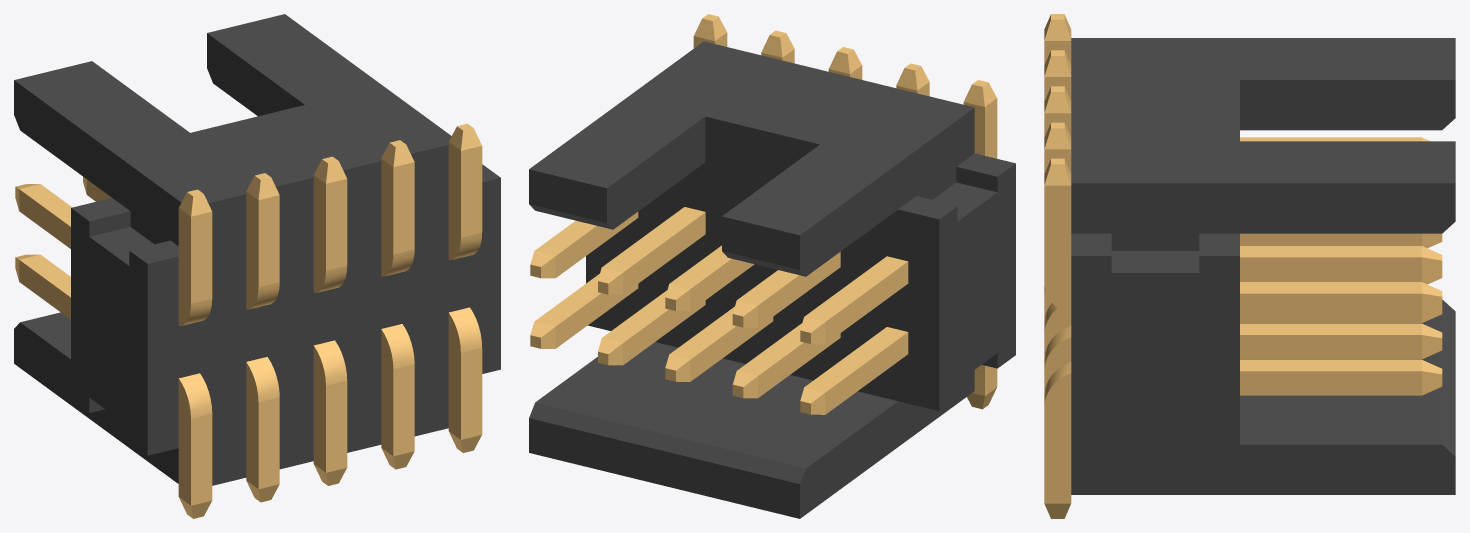
The model's file is sfe-2x05_p1.27mm_smd_unshrouded.glb.
3 views of the same model, side by side, from view 1: azimuth 30°, elevation 25°; view 2: azimuth 150°, elevation 25°; view 3: azimuth 270°, elevation 25° (orthographic). The views are drawn at different scales.
Visible parts, largest first — view 1: 0.08333333333333333_0.08333333333333333_0.08333333333333333_, 1_0.5833333333333334_0.25_0; view 2: 0.08333333333333333_0.08333333333333333_0.08333333333333333_, 1_0.5833333333333334_0.25_0; view 3: 0.08333333333333333_0.08333333333333333_0.08333333333333333_, 1_0.5833333333333334_0.25_0.
Part boxes in pixels (box(x1,y1,x2,y2)): 0.08333333333333333_0.08333333333333333_0.08333333333333333_: box(14, 14, 500, 485); 1_0.5833333333333334_0.25_0: box(15, 123, 482, 518); 0.08333333333333333_0.08333333333333333_0.08333333333333333_: box(529, 41, 1015, 518); 1_0.5833333333333334_0.25_0: box(530, 14, 997, 414); 0.08333333333333333_0.08333333333333333_0.08333333333333333_: box(1071, 38, 1455, 494); 1_0.5833333333333334_0.25_0: box(1044, 14, 1442, 518).
Bounding box in the file's own units: 0.665 × 0.58 × 0.61.
